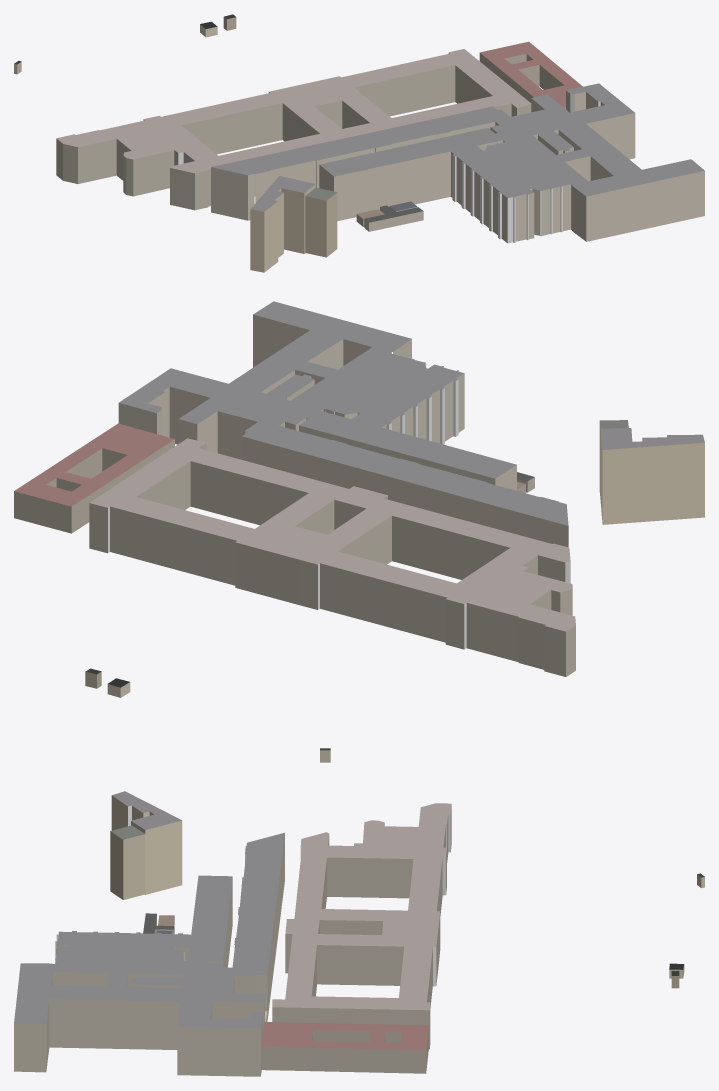
The picture shows the model from 3 angles, top to bottom: view 1: azimuth 30°, elevation 25°; view 2: azimuth 150°, elevation 25°; view 3: azimuth 270°, elevation 25°; orthographic projection. The views are drawn at different scales.
Parts seen in each view (by area): view 1: tuile; view 2: tuile; view 3: tuile.
Boxes of the visible parts, x1=… form: tuile: x1=14, y1=14, x2=704, y2=272; tuile: x1=14, y1=301, x2=704, y2=762; tuile: x1=14, y1=791, x2=704, y2=1076.
Size of the model in its own units: 240 by 35.1 by 292.
